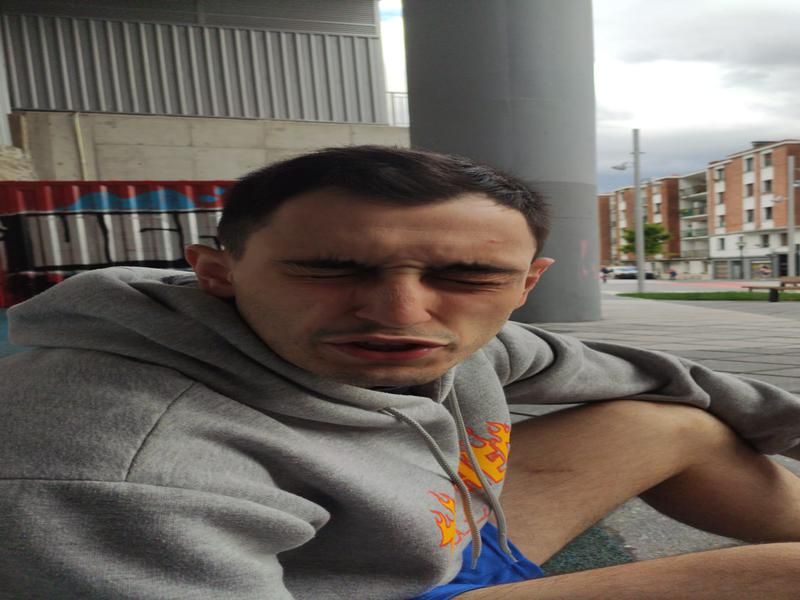NWink: (274, 244, 519, 306)
